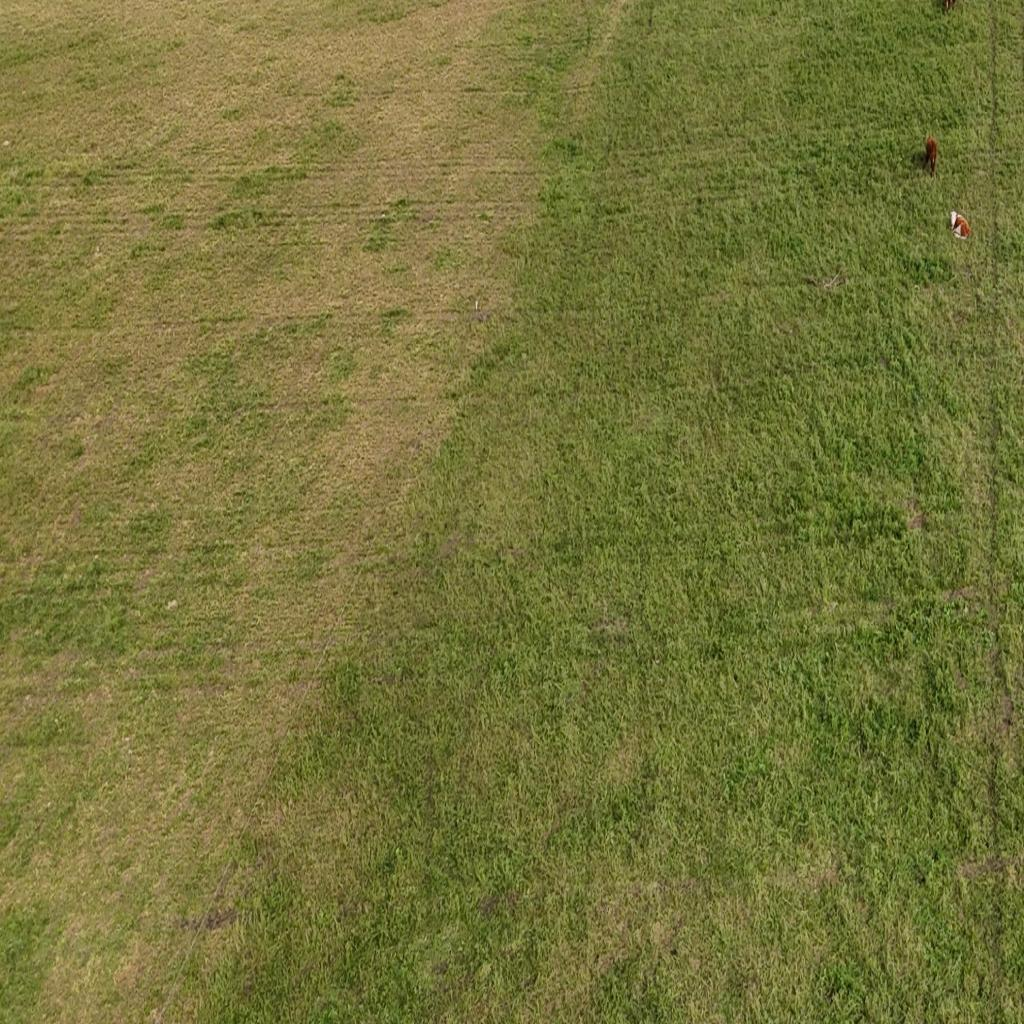cow: (950, 210, 972, 243), (923, 134, 940, 176)
